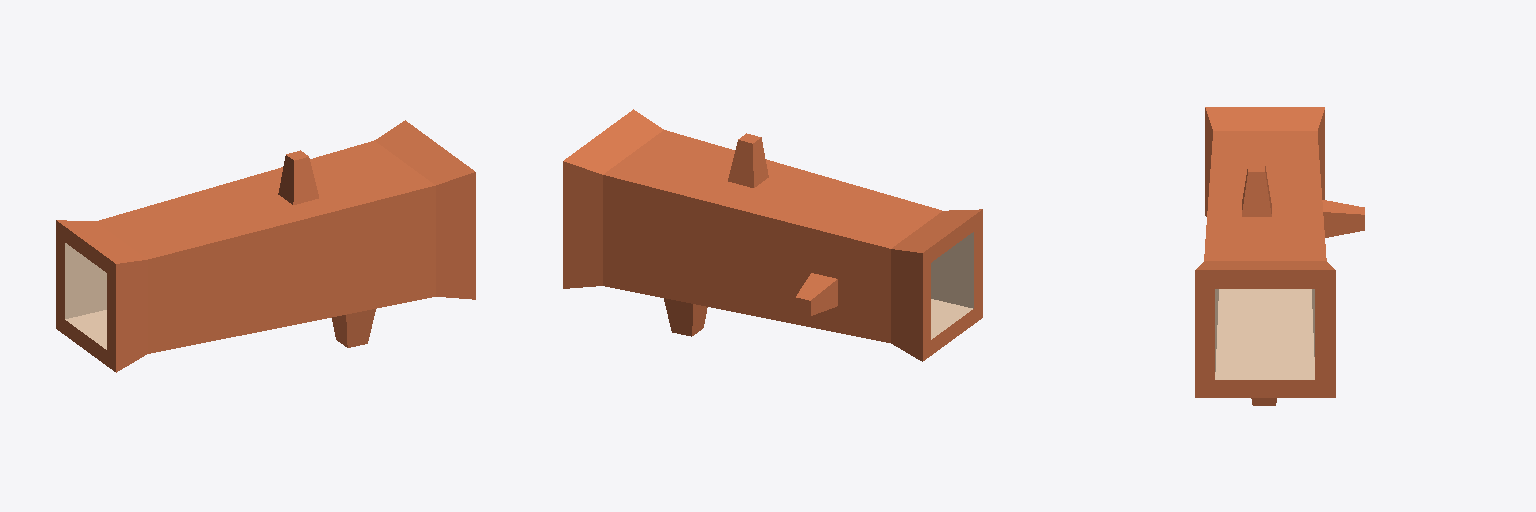
The model's file is log_large.obj.
The picture shows the model from 3 angles: view 1: azimuth 30°, elevation 25°; view 2: azimuth 150°, elevation 25°; view 3: azimuth 270°, elevation 25°; orthographic projection.
Visible parts, largest first — view 1: log_large; view 2: log_large; view 3: log_large.
Boxes of the visible parts, <box> form: log_large: <box>56,120,475,372</box>; log_large: <box>563,109,982,361</box>; log_large: <box>1195,107,1364,405</box>.
Bounding box in the file's own units: 1 × 0.5493 × 0.4167.